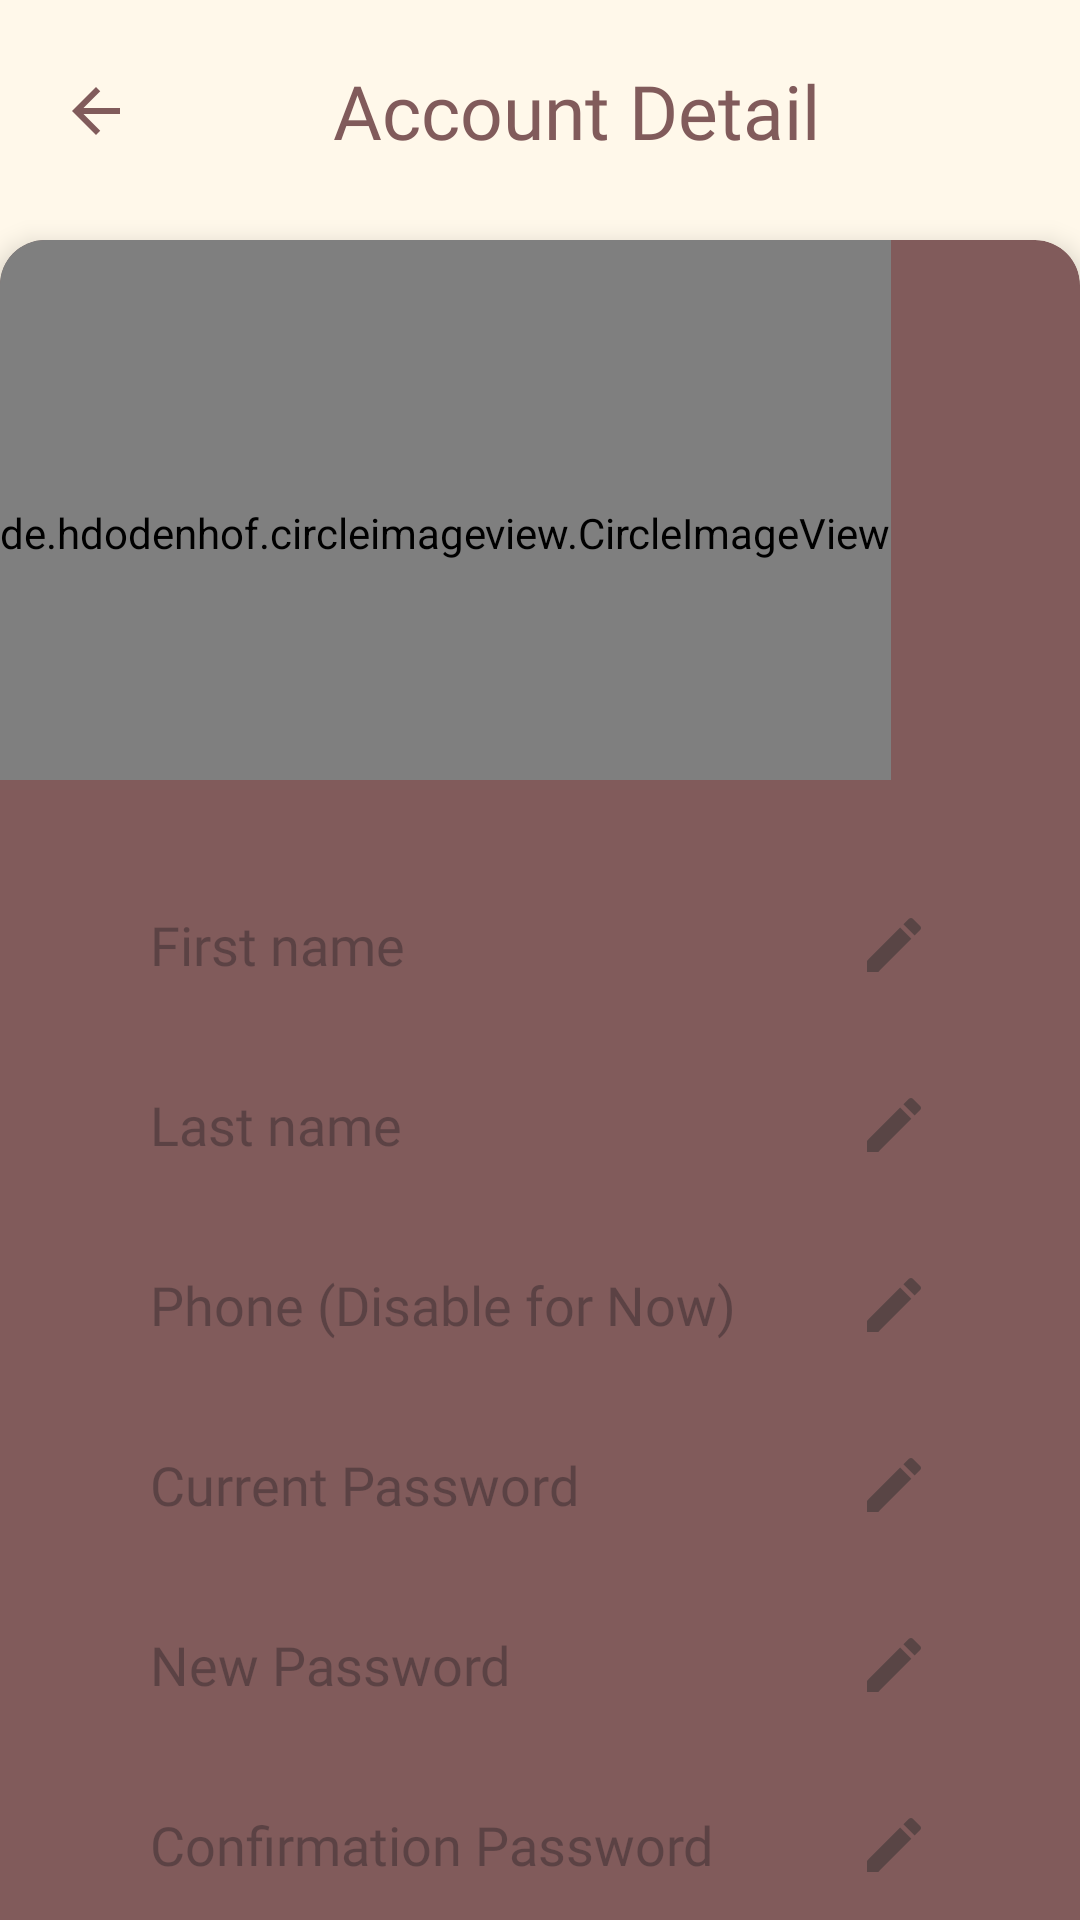

Point at icon controls on the screen. Image size 1080w x 1920h, points as (x,y).
back arrow: (96,111)
